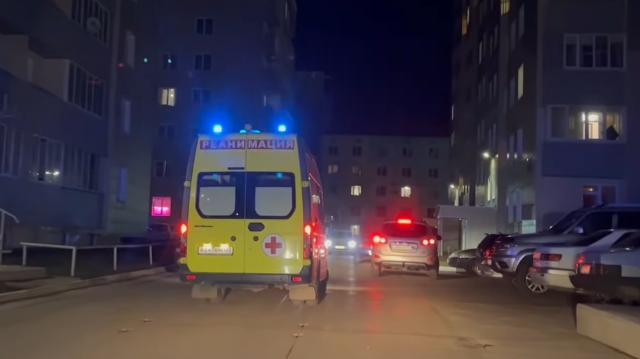intensive care unit: (177, 122, 331, 308)
non emergency car: (482, 198, 640, 302), (533, 231, 640, 306), (372, 218, 443, 283), (328, 231, 356, 259)
